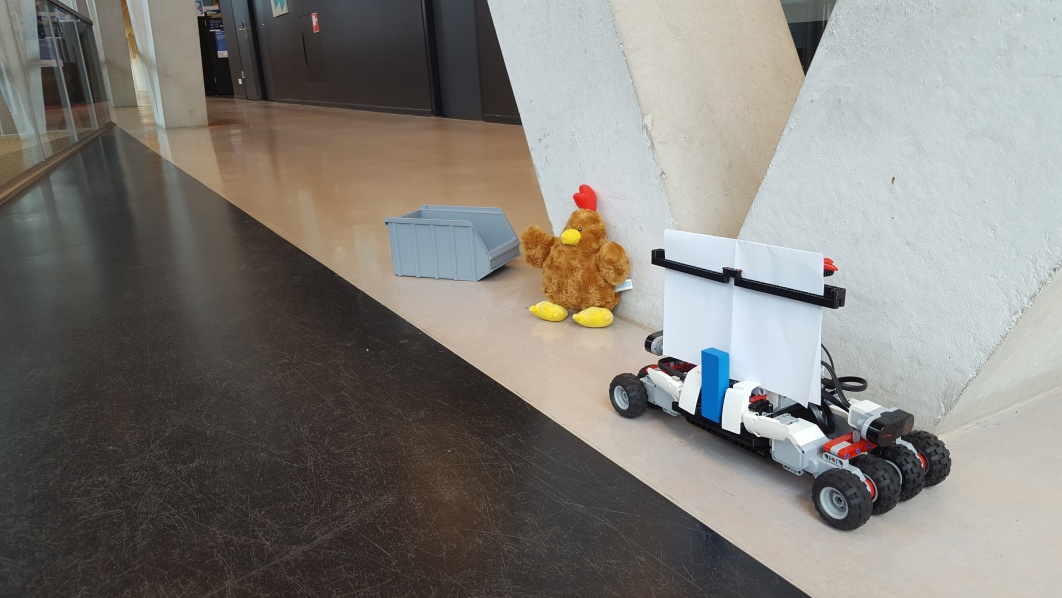car: (609, 228, 953, 531)
chicken: (520, 185, 631, 329)
tray: (383, 202, 520, 287)
